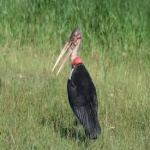Animal: (52, 27, 110, 142)
Uncultivated: (5, 3, 148, 147)
